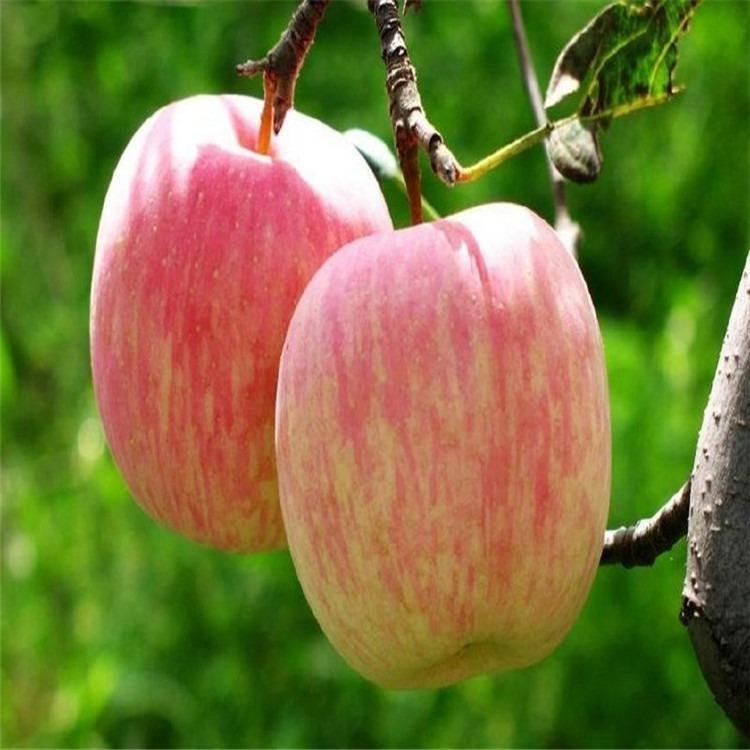apple: (268, 199, 626, 692), (87, 93, 396, 553)
